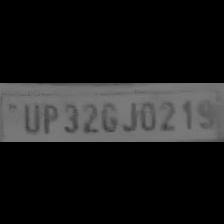0: (137, 96, 157, 132)
1: (177, 96, 195, 130)
2: (156, 96, 178, 132), (79, 97, 99, 133)
3: (60, 99, 80, 134)
G: (98, 97, 119, 132)
J: (120, 97, 138, 132)
P: (40, 99, 58, 133)
U: (20, 99, 40, 133)
